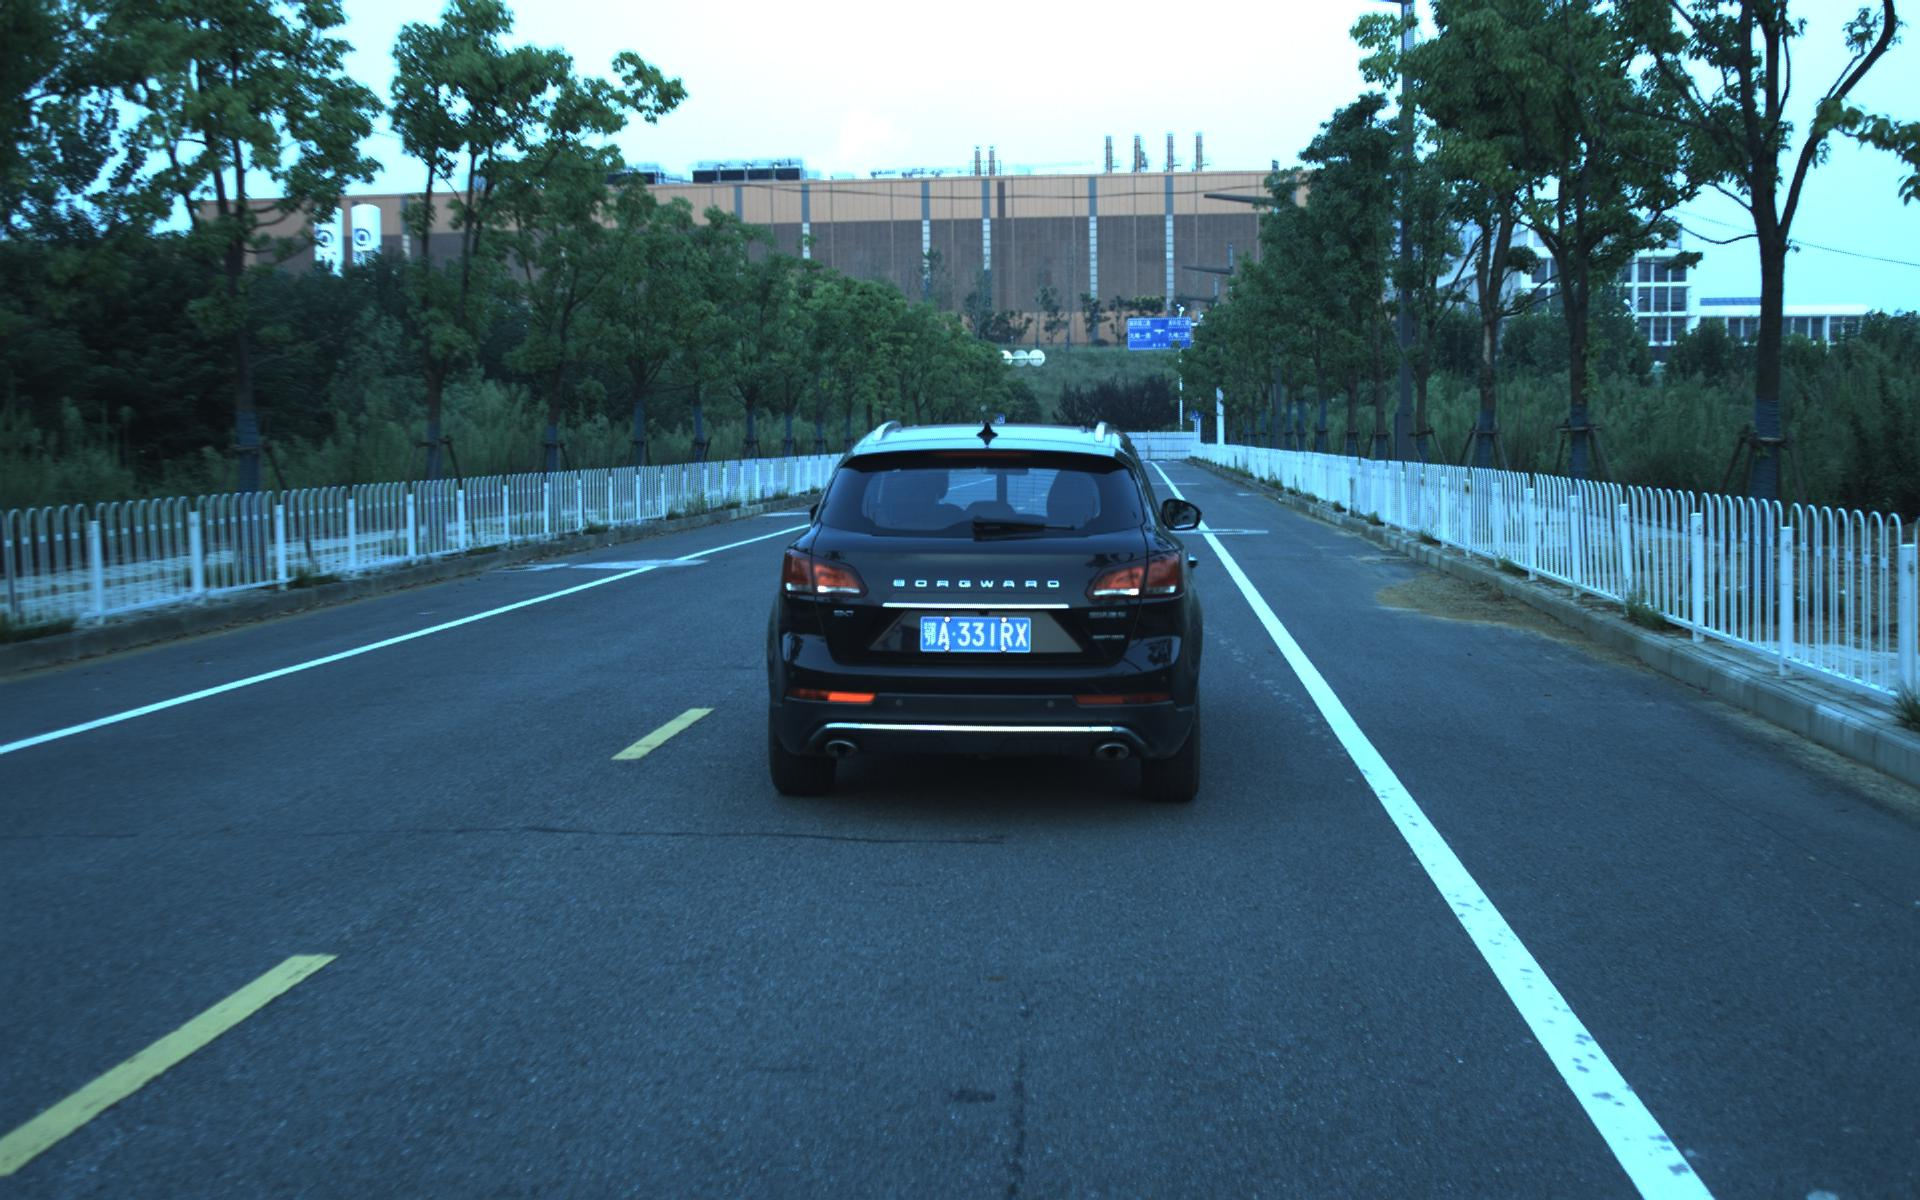Car: (760, 409, 1196, 813)
